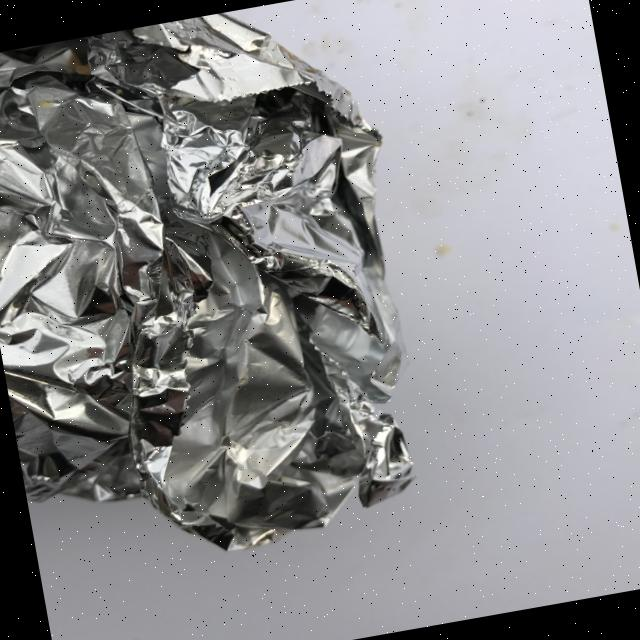metal: (0, 0, 448, 585)
